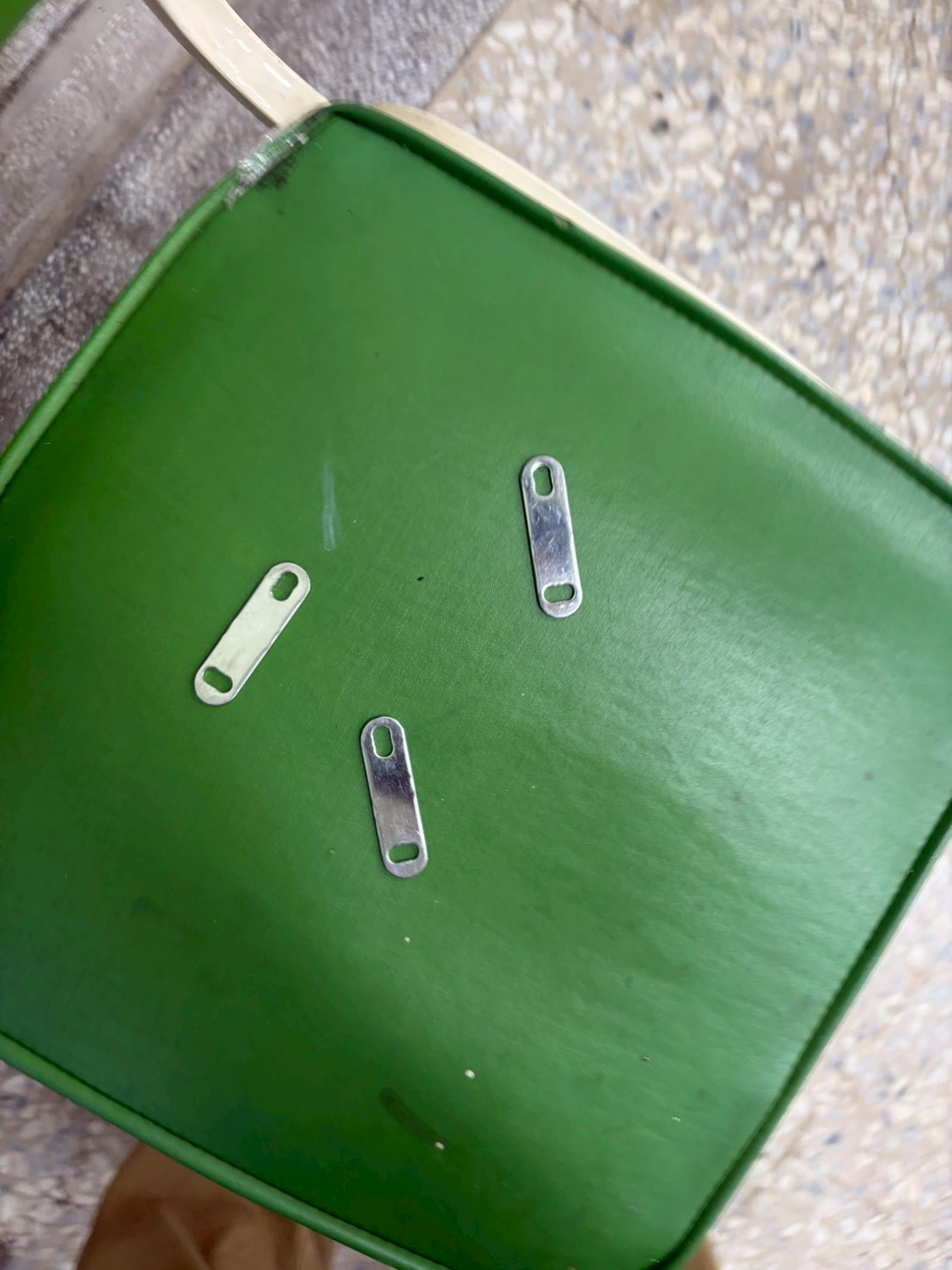Fe: (497, 450, 607, 620), (198, 549, 306, 710), (356, 707, 444, 873)
